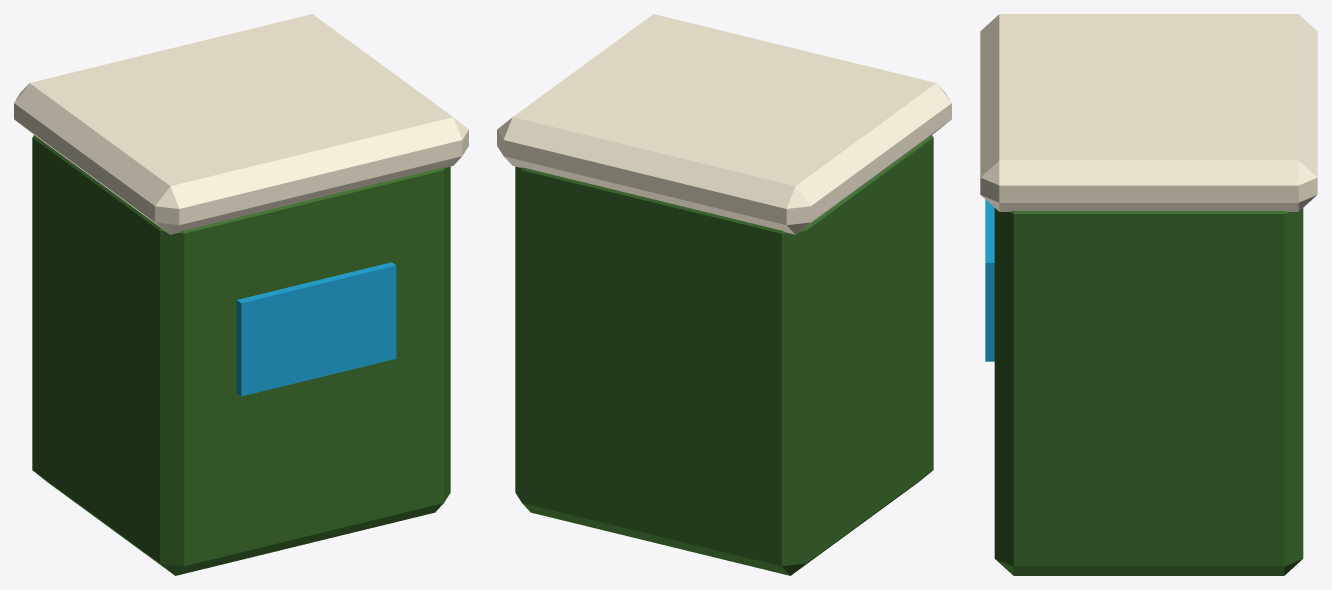
File: bin.glb
The picture shows the model from 3 angles, left to right: view 1: azimuth 30°, elevation 25°; view 2: azimuth 150°, elevation 25°; view 3: azimuth 270°, elevation 25°; orthographic projection. The views are drawn at different scales.
Visible parts, largest first — view 1: bin; view 2: bin; view 3: bin.
Part boxes in pixels (left/top/right/bottom): bin: left=14, top=14, right=468, bottom=575; bin: left=497, top=14, right=951, bottom=575; bin: left=980, top=14, right=1317, bottom=575.
Size of the model in its own units: 0.81 by 0.98 by 0.71.
